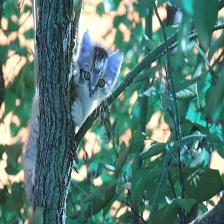kedo: (71, 30, 123, 122)
